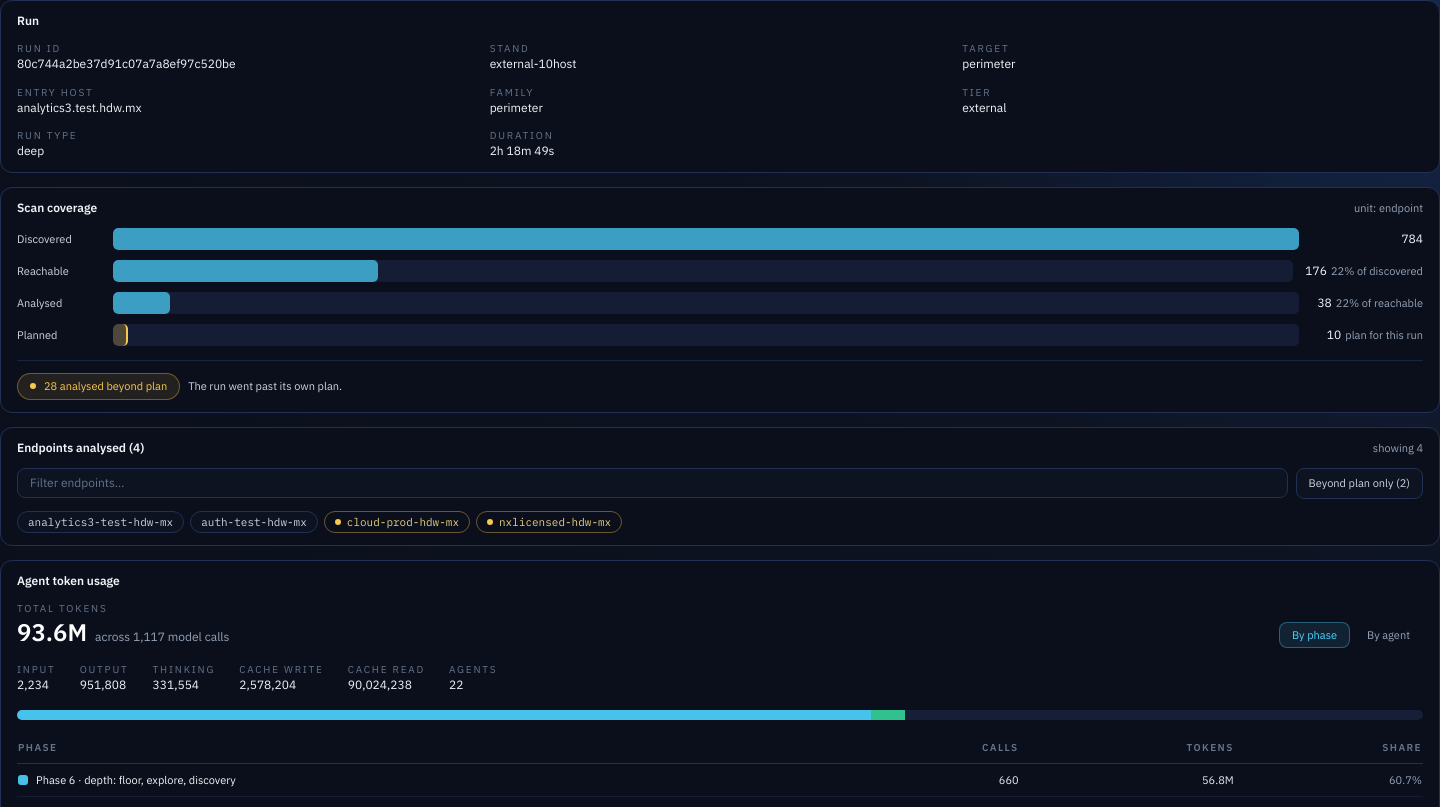
Scenario: expanded panels › filters the inventory and narrows it to the beyond-plan members
Type "auth" into the search field named "Filter analysed endpoints" at (652,483), box x1=17 y1=468 x2=1288 y2=498
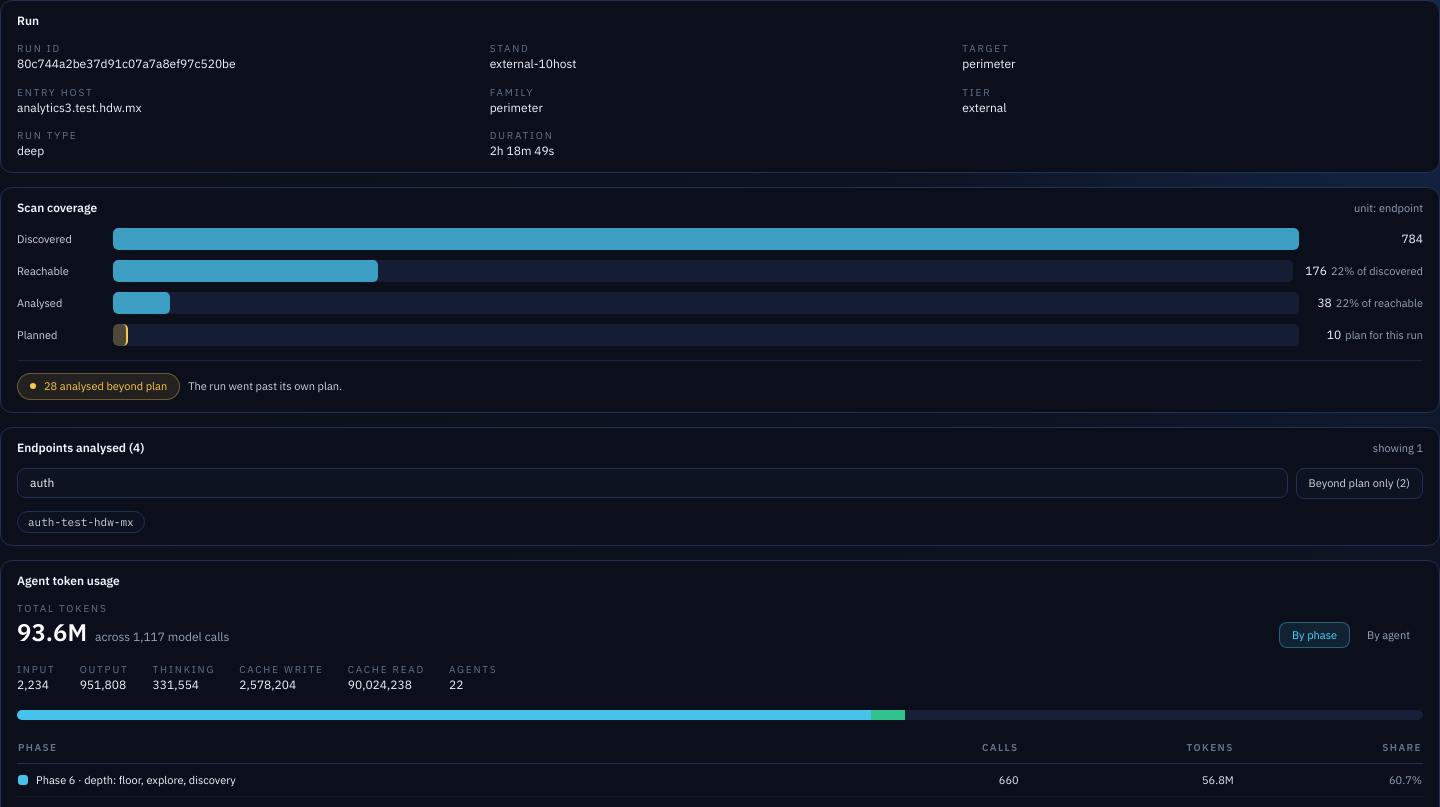
expect the text "auth-test-hdw-mx" is shown: met, box x1=17 y1=510 x2=145 y2=533
expect the text "cloud-prod-hdw-mx" is gone: met
Clear the search field named "Filter analysed endpoints" at (652,483), box x1=17 y1=468 x2=1288 y2=498
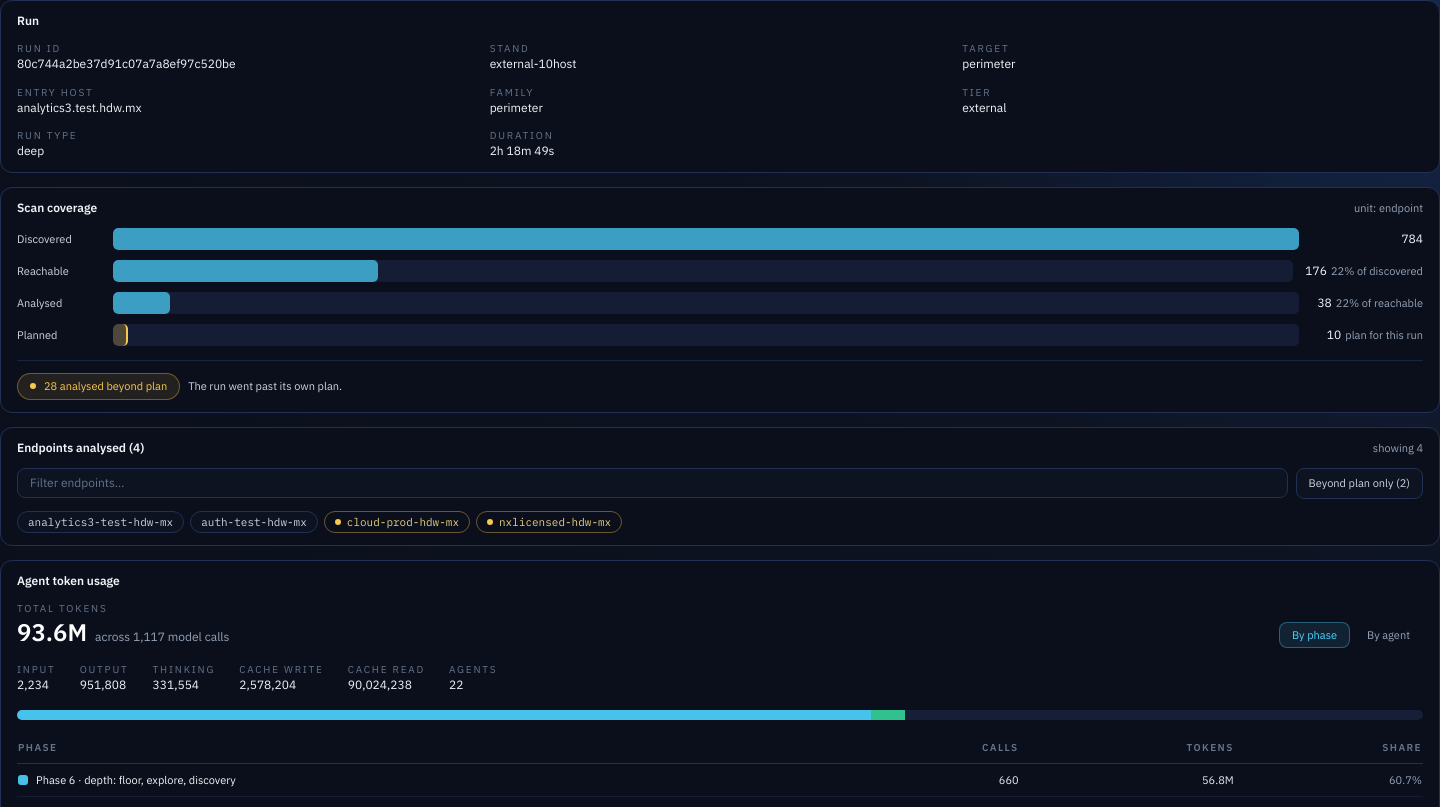
Click the button "Beyond plan only (2)" at (1359,483), box x1=1296 y1=468 x2=1423 y2=498
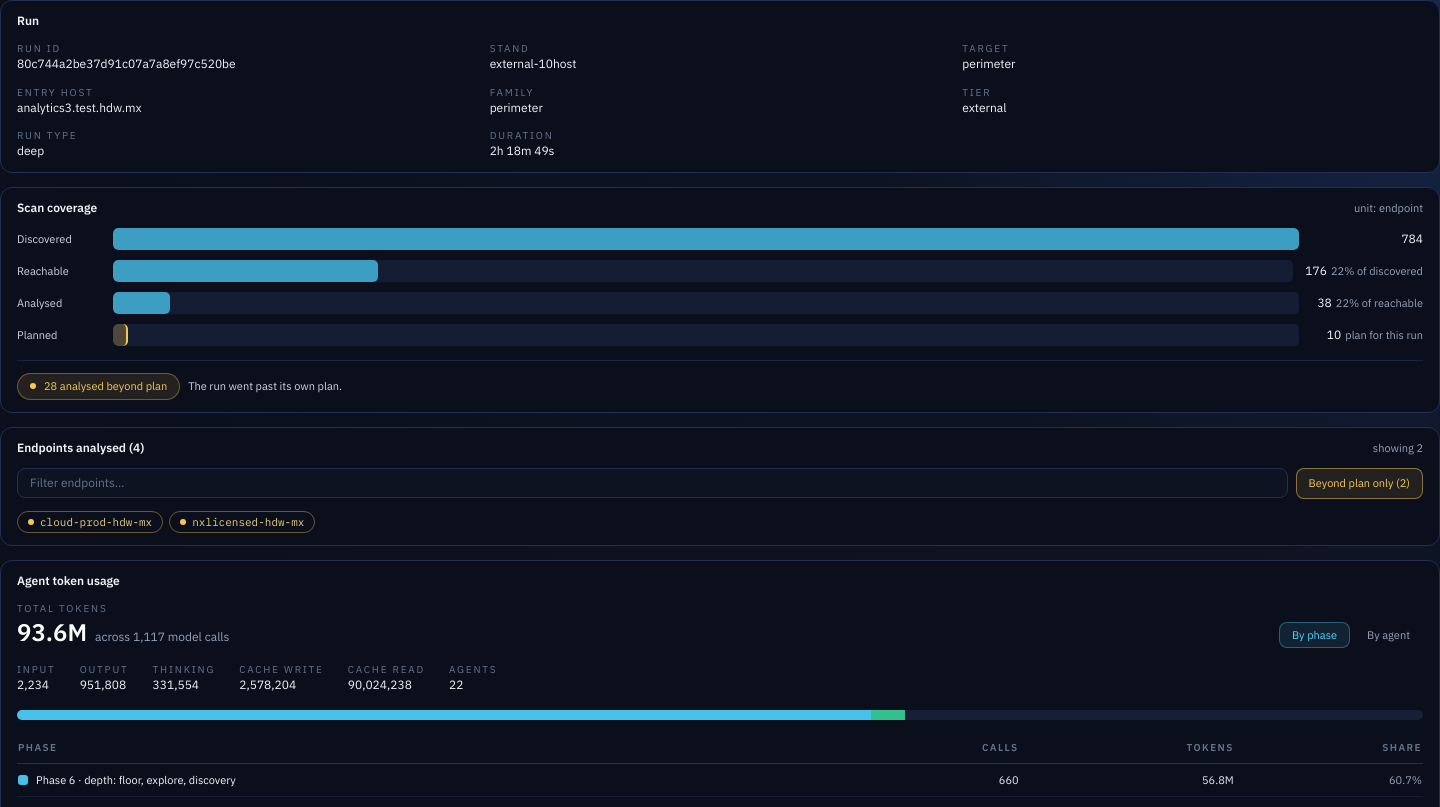
expect the text "cloud-prod-hdw-mx" is shown: met, box x1=17 y1=510 x2=163 y2=533
expect the text "auth-test-hdw-mx" is gone: met
